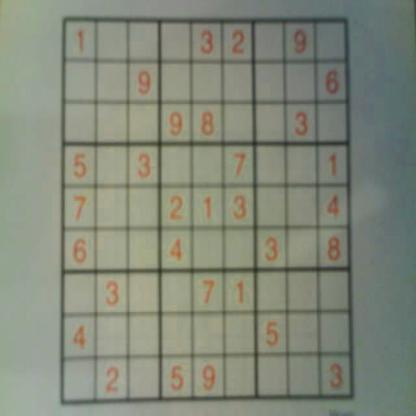sudoku: (55, 11, 359, 411)
